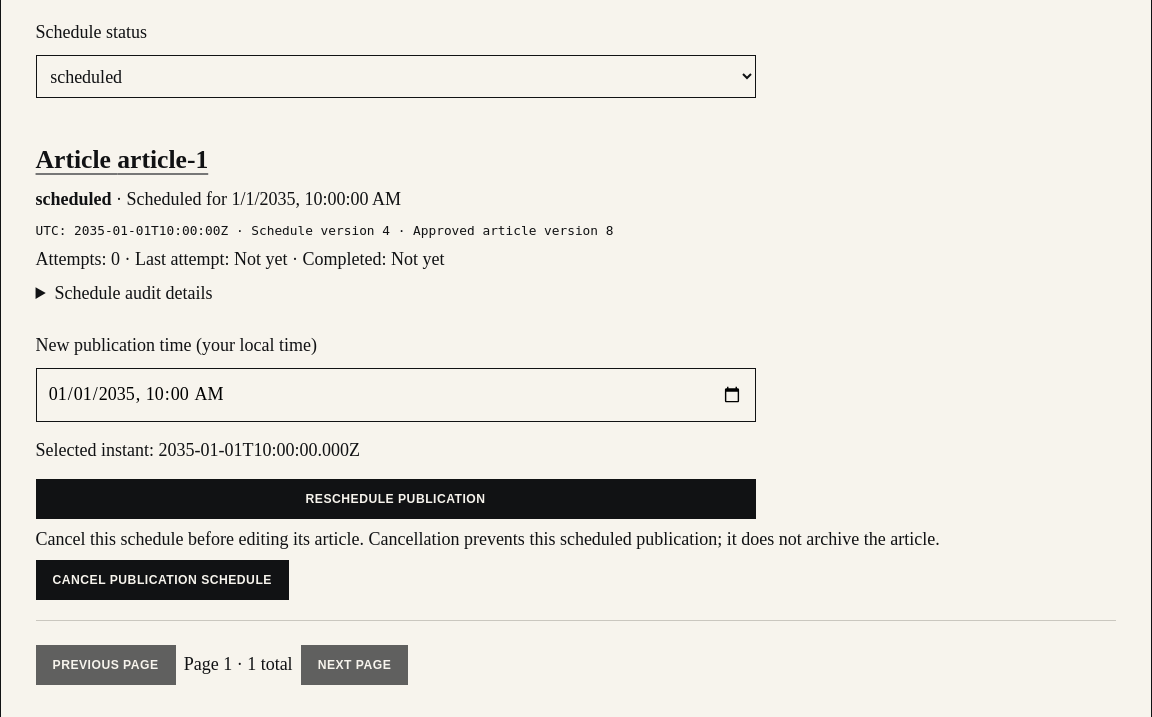
Scenario: publication schedule workspace › reschedules an exact selected instant then cancels using the refreshed schedule version
This screenshot has width=1152, height=717.
(page scrolled)
Replace the text in the field labelled "New publication time (your local time)" with "2035-02-15T10:30" at coordinates (396, 395), box 36,368 -> 756,422
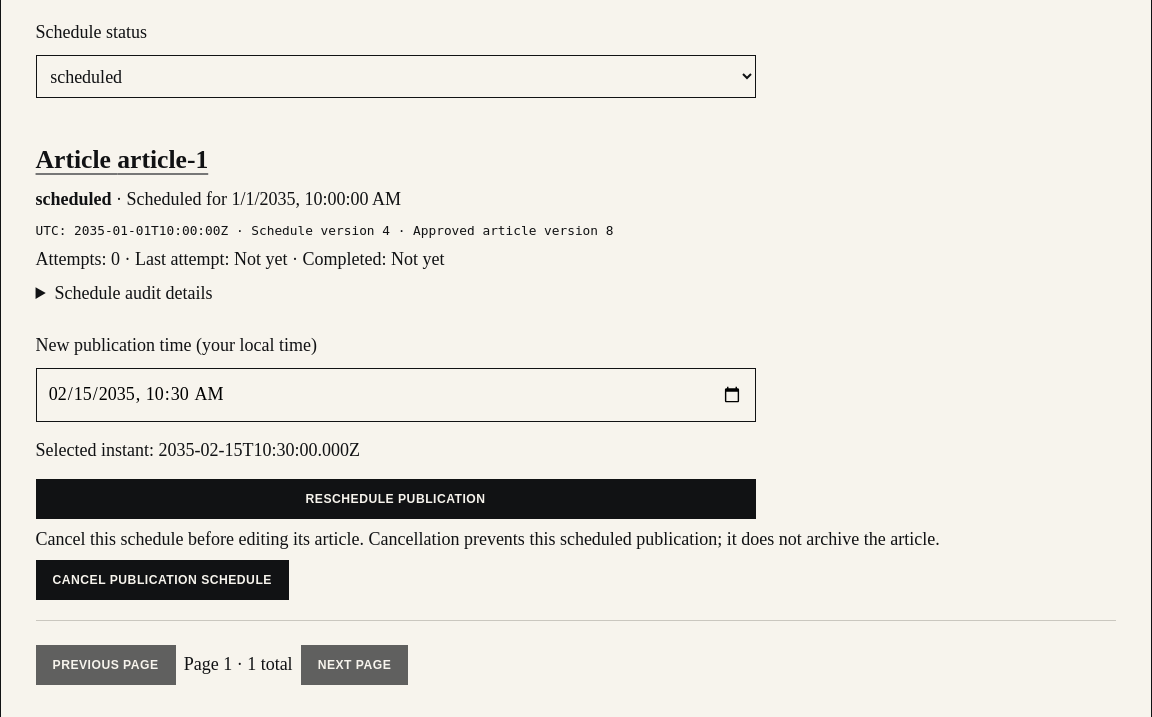
Click the button "Reschedule publication" at coordinates (396, 499), box 36,479 -> 756,519
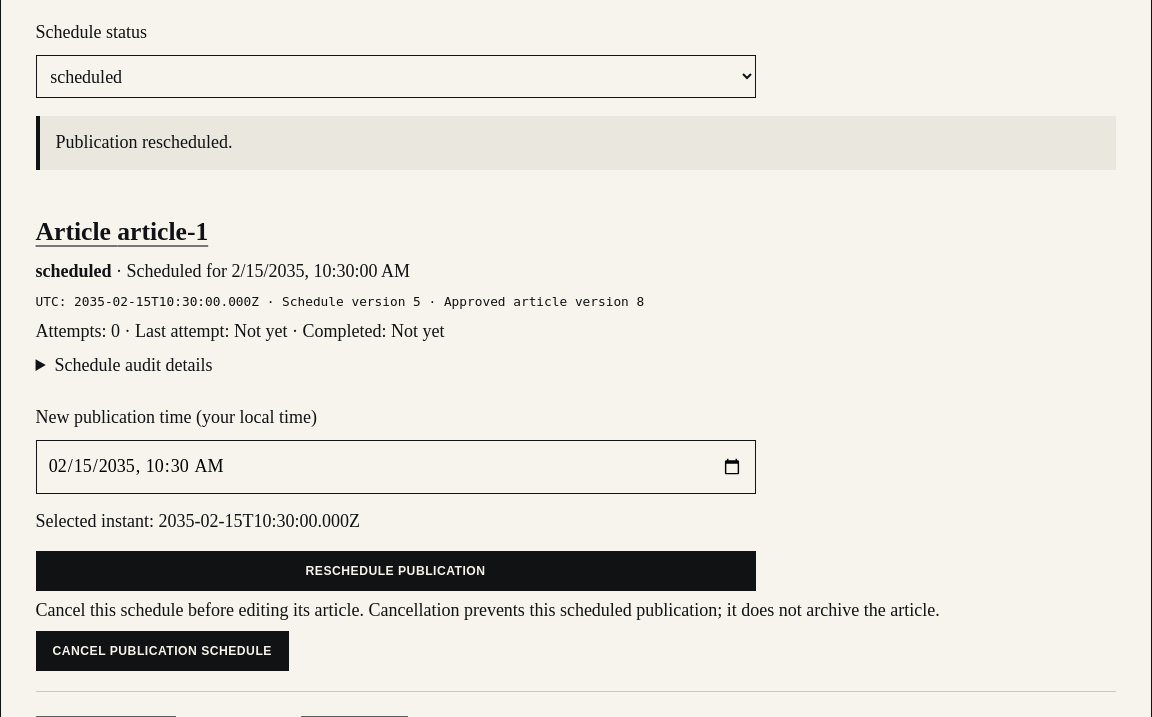
Expected: the text "Schedule version 5" is shown, 36,294 -> 644,309
Click the button "Cancel publication schedule" at coordinates (162, 651), box 36,631 -> 289,671
(page scrolled)
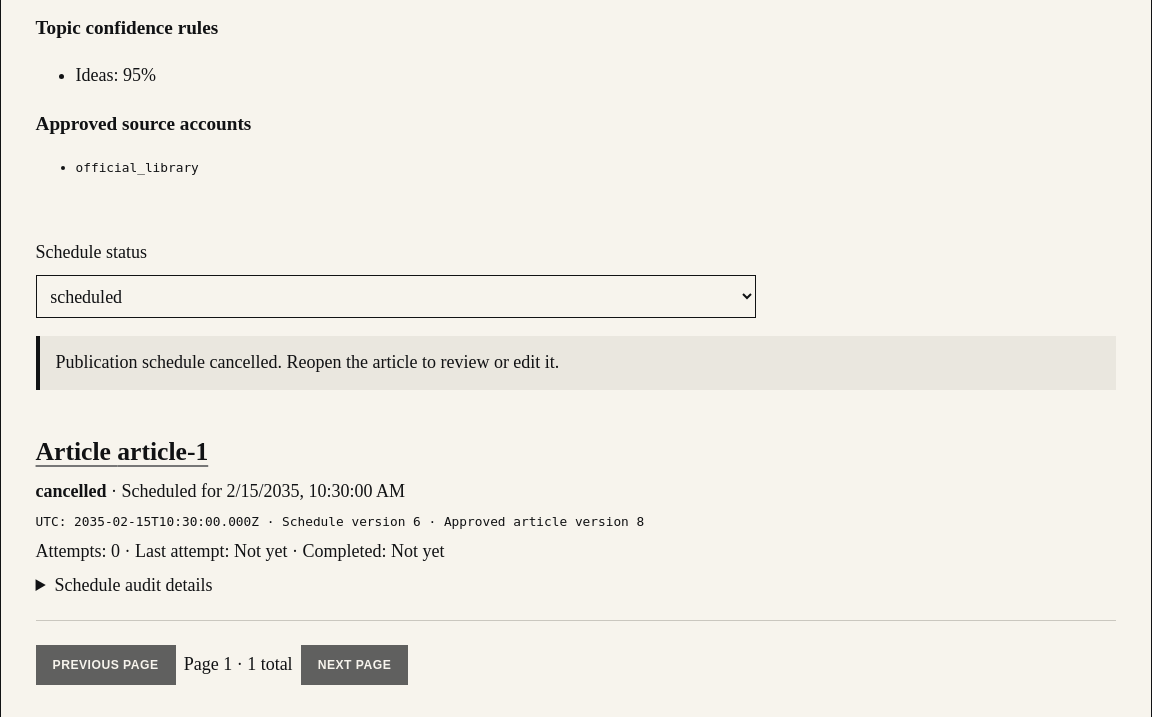
Expected: the button "Cancel publication schedule" is gone
Expected: the text "cancelled" is shown, 36,481 -> 106,501
